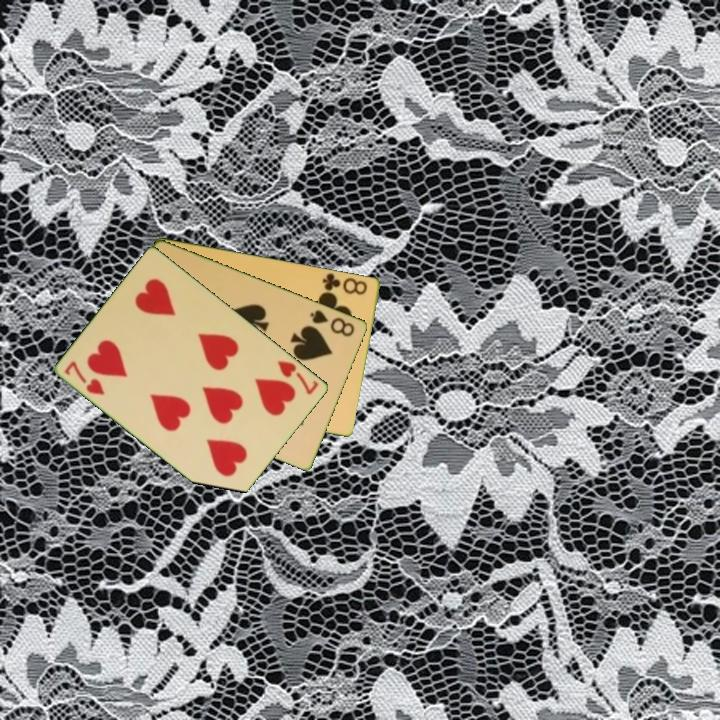7h: (61, 357, 108, 398), (274, 357, 322, 397)
8c: (319, 270, 370, 298)
8s: (307, 306, 358, 339)
